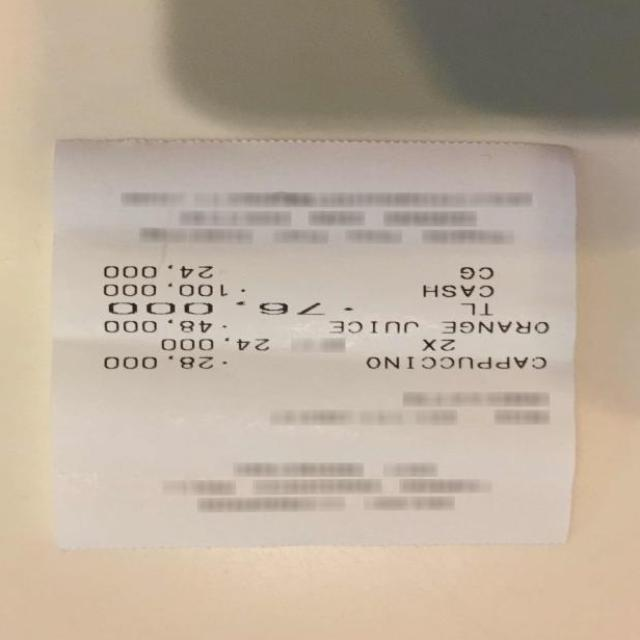kertas: (53, 140, 575, 548)
